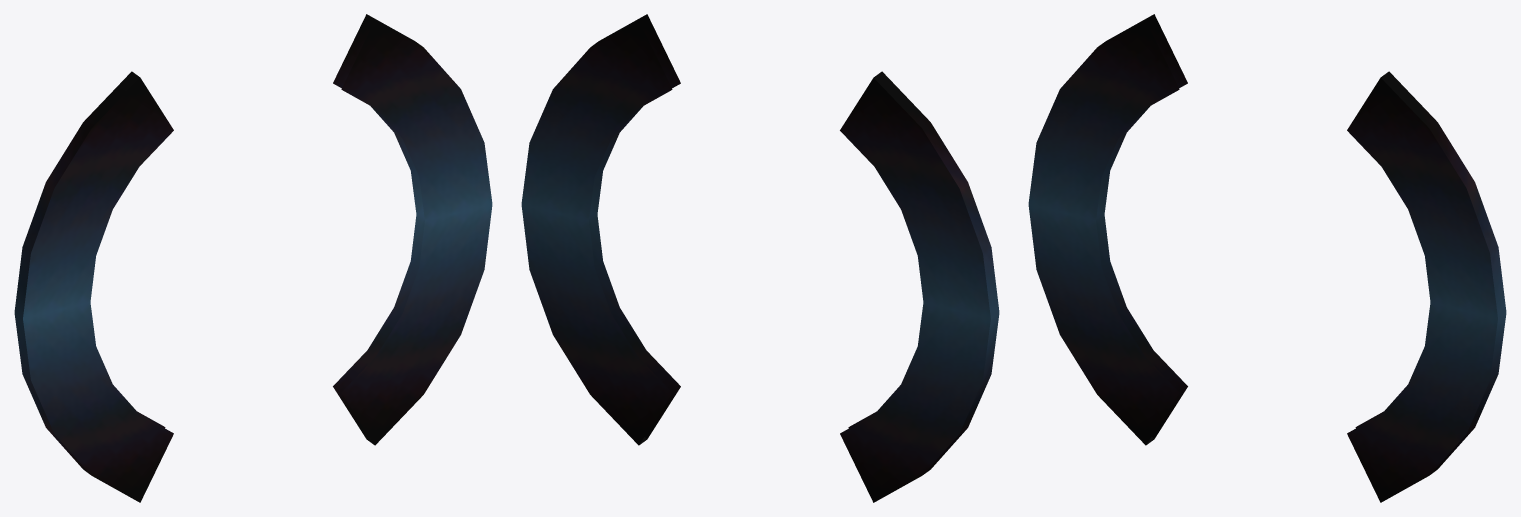
Rendered from fx_mod_ring_liuguang01.FBX.
The picture shows the model from 3 angles, left to right: view 1: azimuth 30°, elevation 25°; view 2: azimuth 150°, elevation 25°; view 3: azimuth 330°, elevation 25°; orthographic projection.
Parts seen in each view (by area): view 1: fx_mod_ring_liuguang01; view 2: fx_mod_ring_liuguang01; view 3: fx_mod_ring_liuguang01.
Part boxes in pixels (x1,y1,x2,y2): fx_mod_ring_liuguang01: [14, 14, 492, 502]; fx_mod_ring_liuguang01: [521, 14, 999, 502]; fx_mod_ring_liuguang01: [1028, 14, 1506, 502].
Bounding box in the file's own units: 338 × 292 × 10.64.
Materials: 1 (1 with a texture image).
